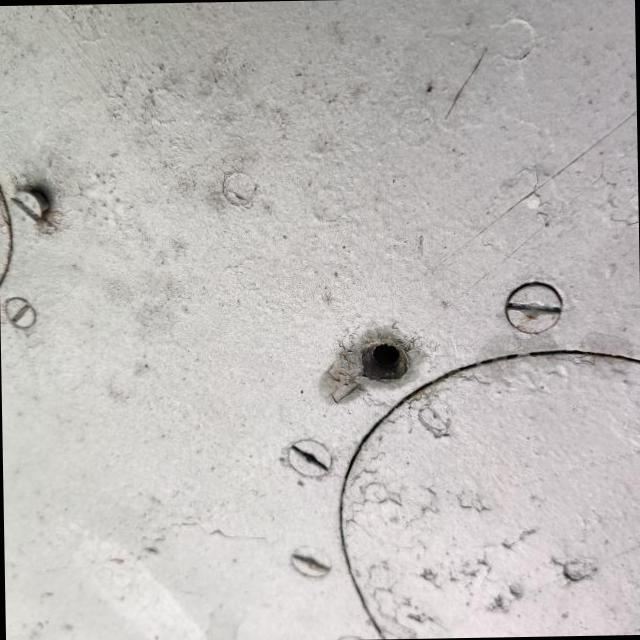Fastener Damage: (326, 301, 443, 418)
